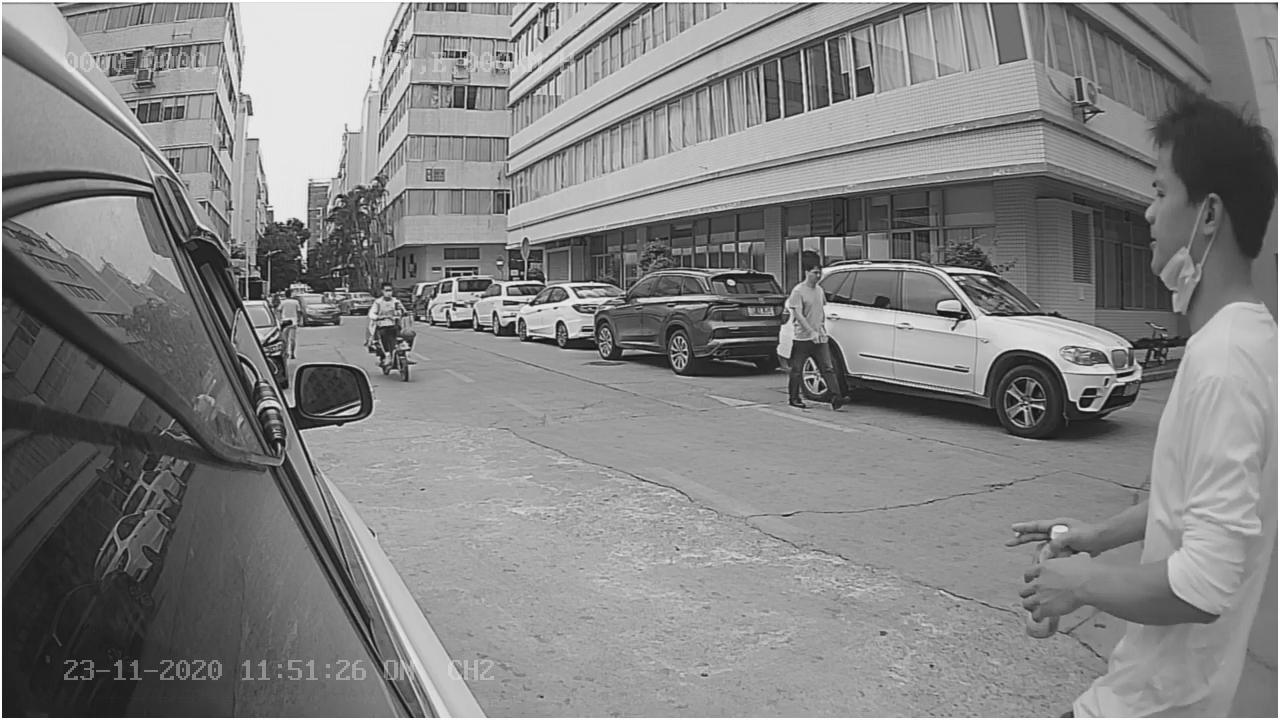person: (773, 260, 851, 414)
